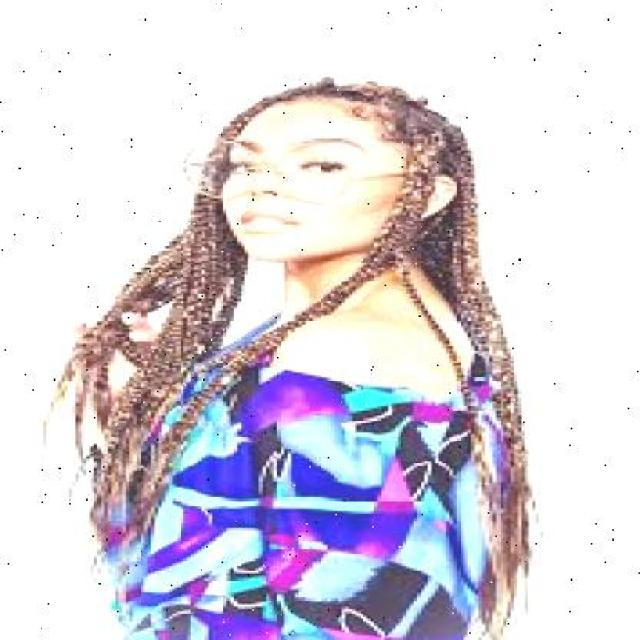glasses: (167, 134, 379, 206)
